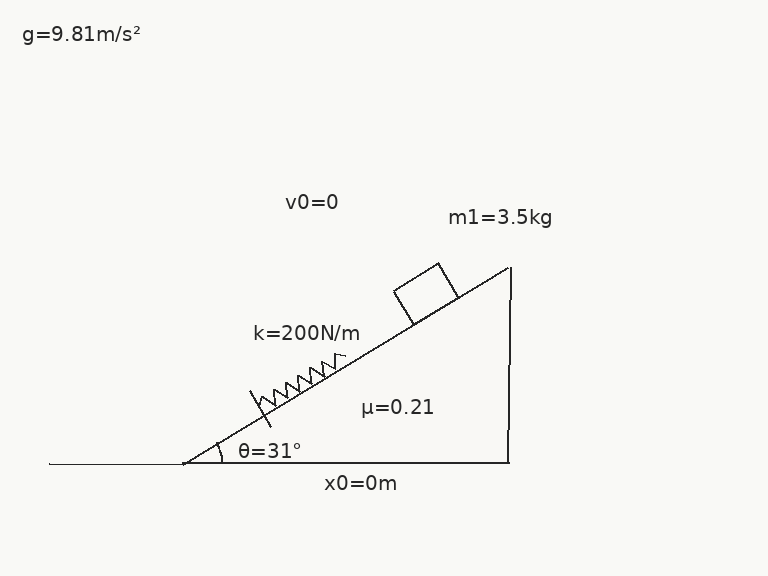block: (391, 261, 461, 326)
ramp: (180, 265, 511, 465)
spring: (257, 351, 346, 408)
